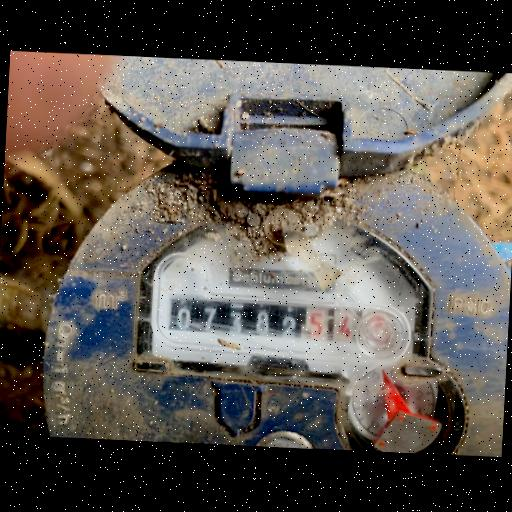0: (174, 299, 196, 332)
2: (280, 305, 300, 341)
3: (224, 301, 247, 337)
4: (333, 308, 357, 342)
5: (305, 307, 329, 342)
7: (197, 298, 220, 334)
8: (252, 302, 273, 339)
border_water_meter_number: (165, 287, 408, 361)
